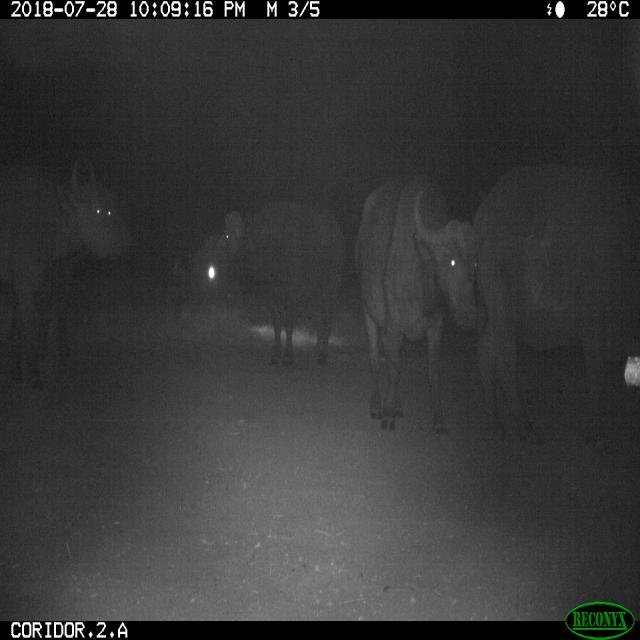buffalo: (355, 176, 487, 443)
